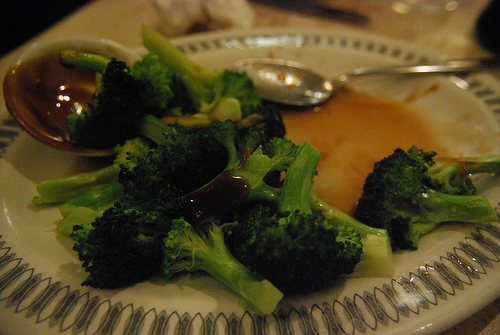broccoli: (228, 139, 361, 298)
